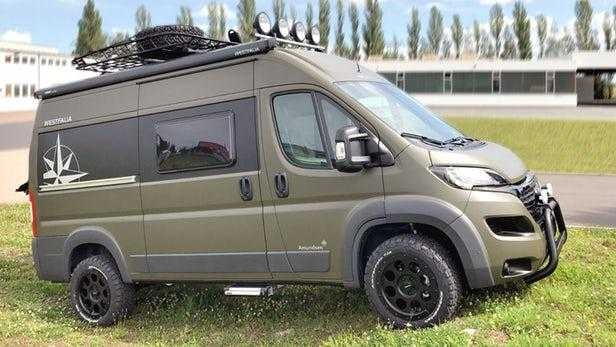van: (27, 39, 567, 332)
